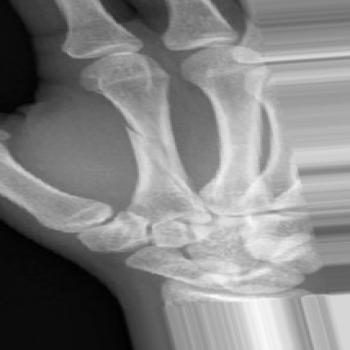Fracture: (113, 118, 200, 191)
